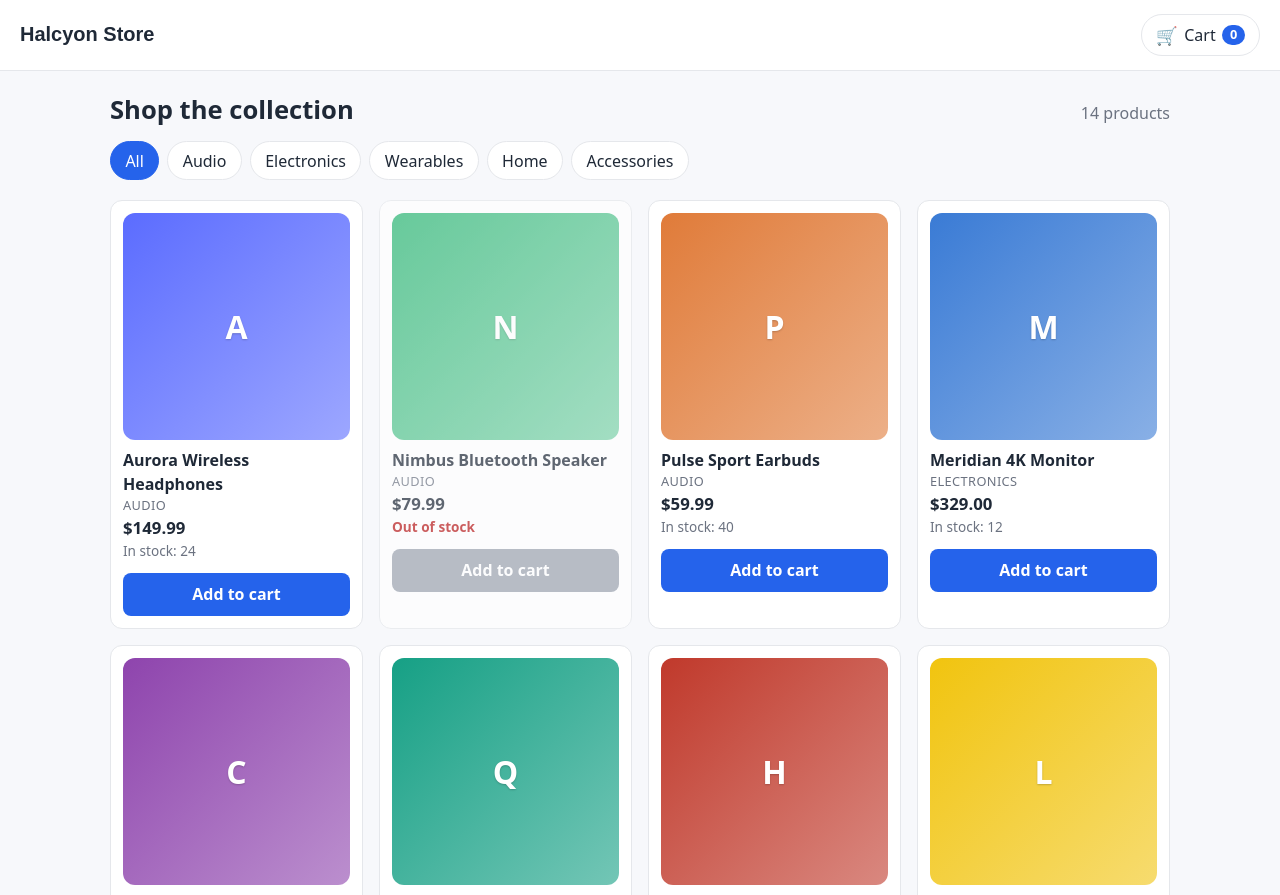
Test: cart + checkout › VAL-RETAIL-011: checkout summary reflects cart contents and total › checkout line items and total match the cart exactly
The width and height of the screenshot is (1280, 895).
Click the 4th button with test id "add-to-cart" at coordinates (236, 594), box [123,573,350,616]
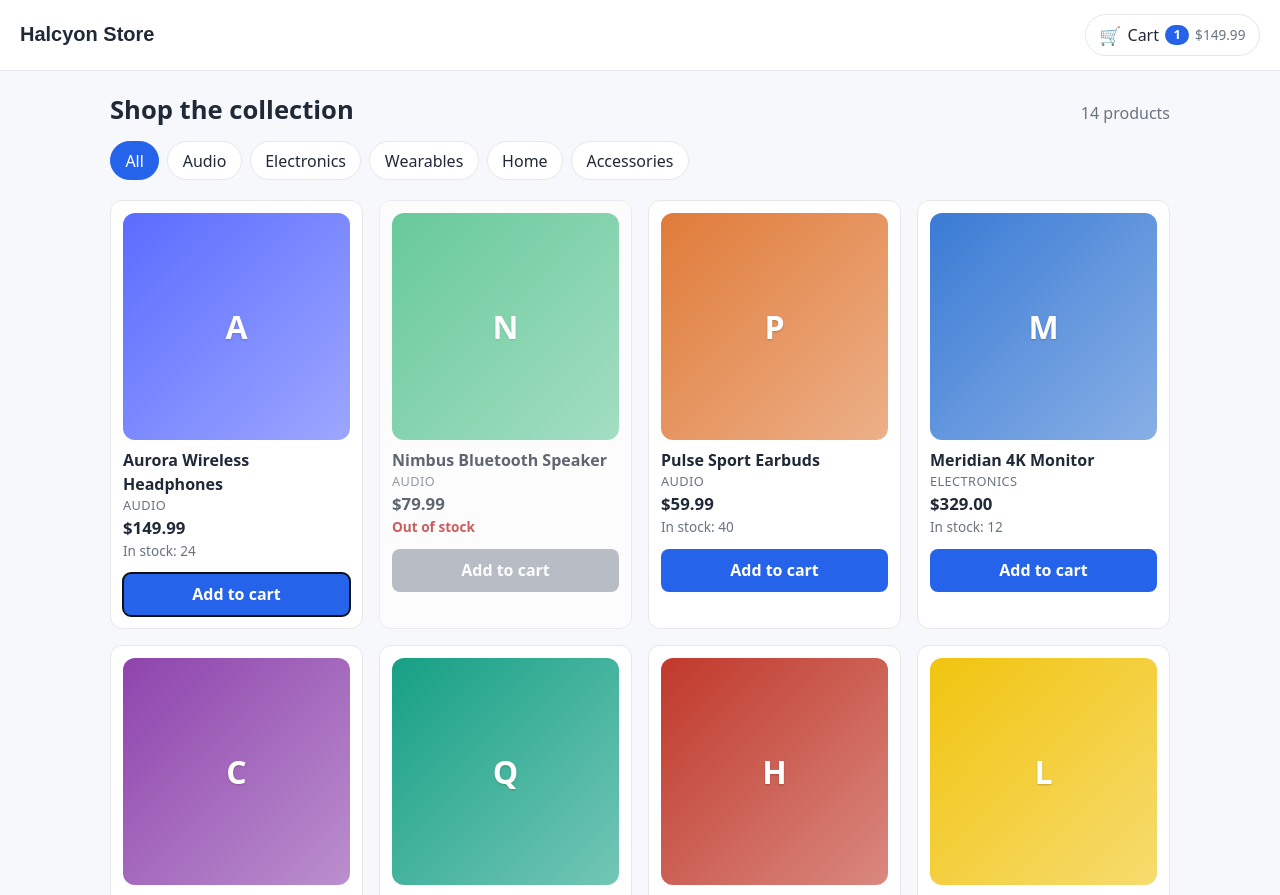
Click the 2nd button with test id "add-to-cart" at coordinates (774, 570), box [661,549,888,592]
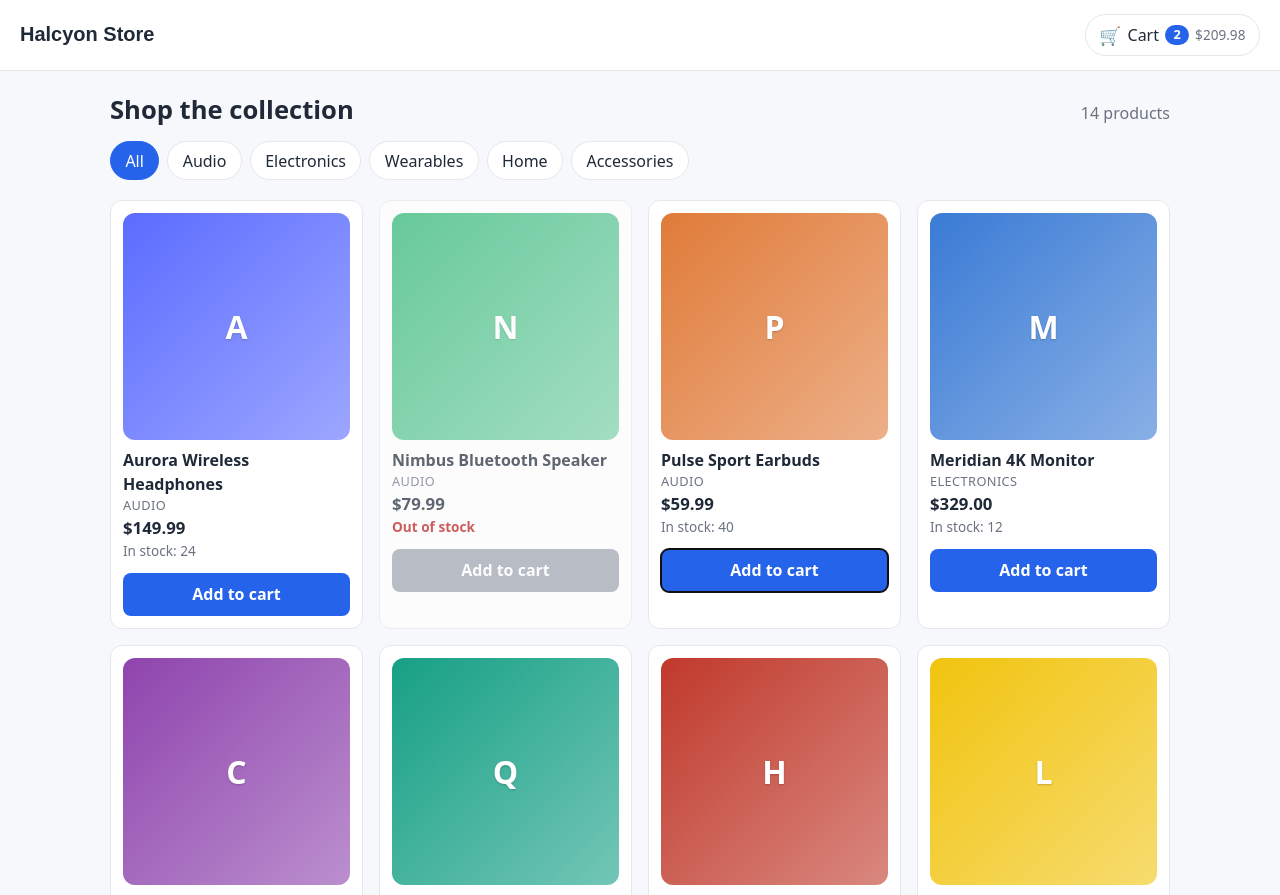
Click the 2nd button with test id "add-to-cart" at coordinates (774, 570), box [661,549,888,592]
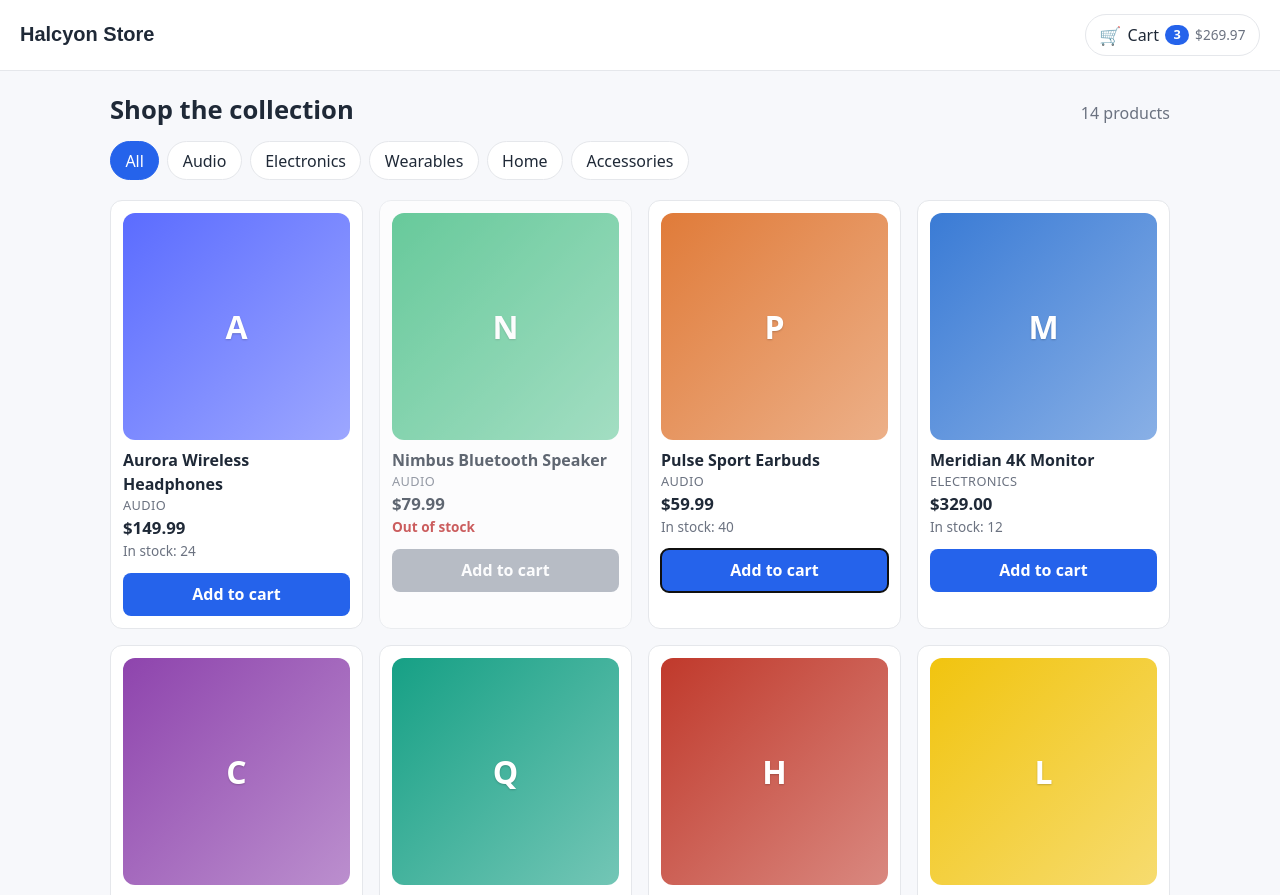
Click the button with test id "cart-link" at coordinates (1172, 35), box [1085,14,1260,56]
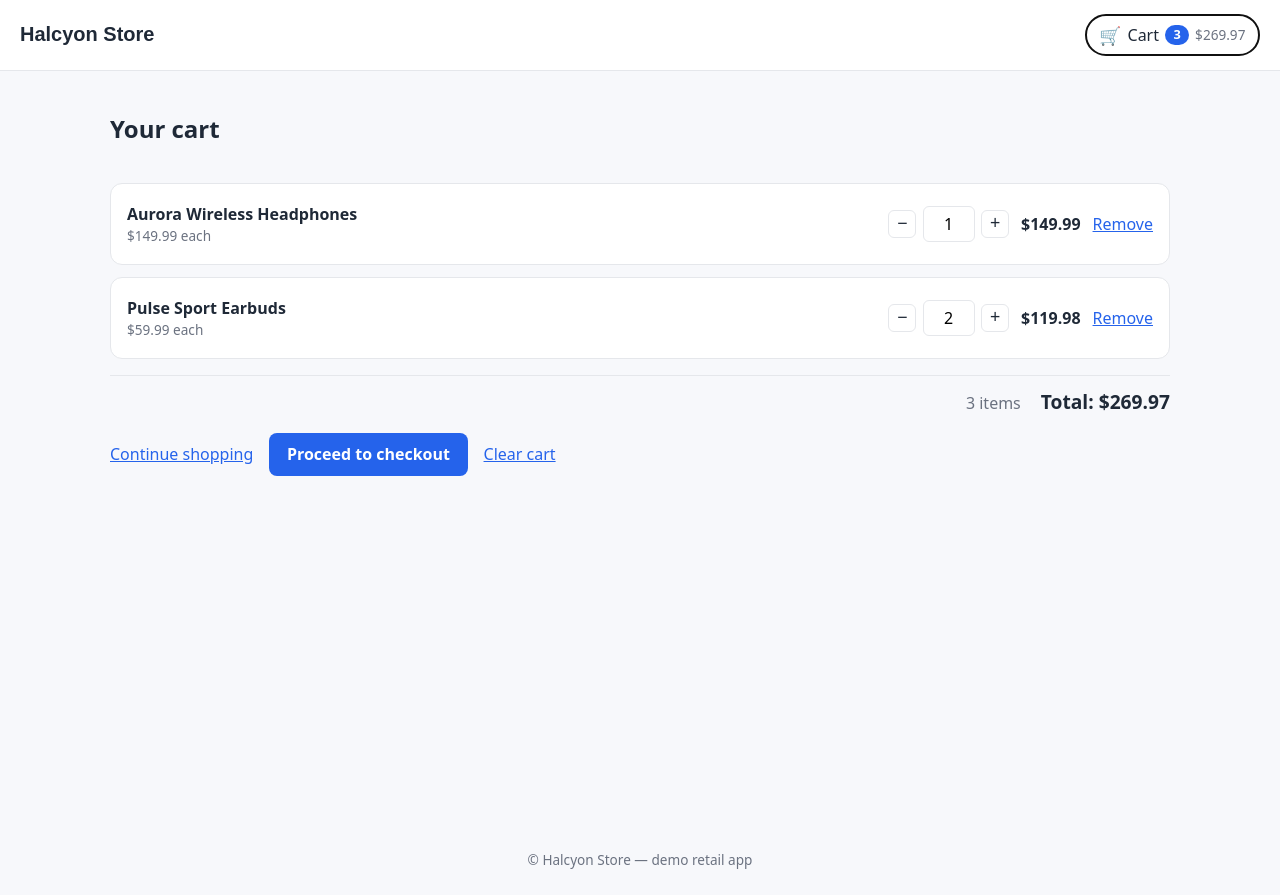
Click the button with test id "go-to-checkout" at coordinates (368, 454), box [269,433,468,476]
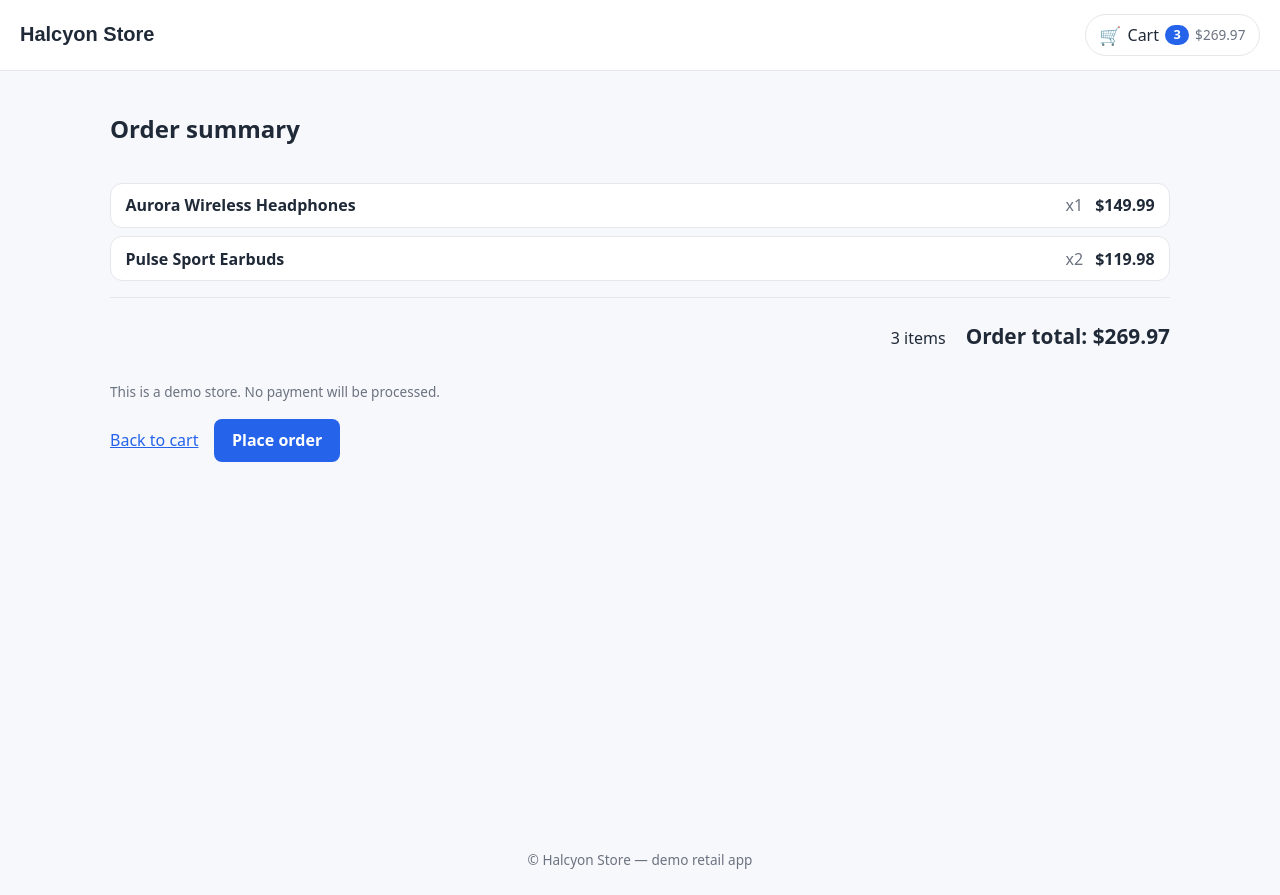
Check: the text with test id "checkout-line-qty" reads "x1", box [1066,193,1083,217]
Check: the text with test id "checkout-line-qty" reads "x2", box [1066,246,1083,270]
